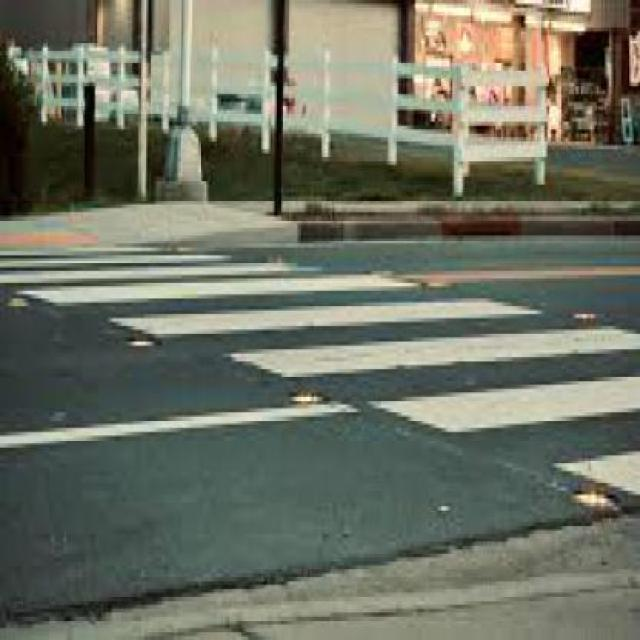crosswalk: (0, 243, 640, 496)
